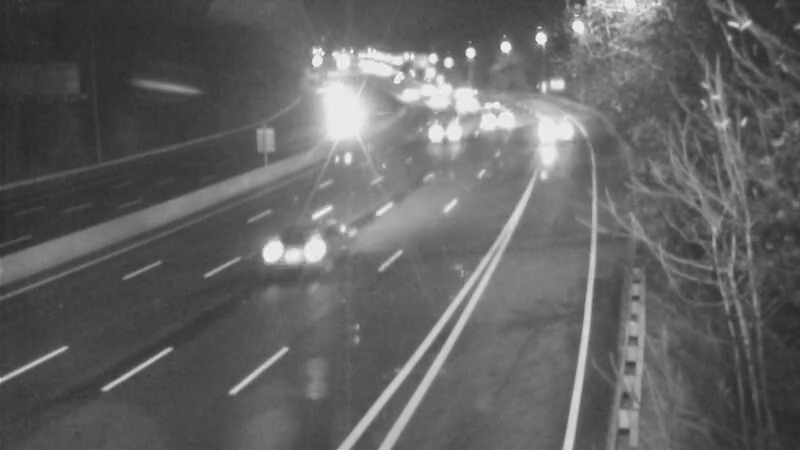vehicle: (241, 212, 321, 292), (386, 70, 436, 120), (411, 79, 461, 129), (437, 84, 487, 134), (465, 78, 515, 128), (468, 91, 518, 141), (418, 100, 468, 150), (525, 102, 575, 152), (316, 104, 366, 154)
